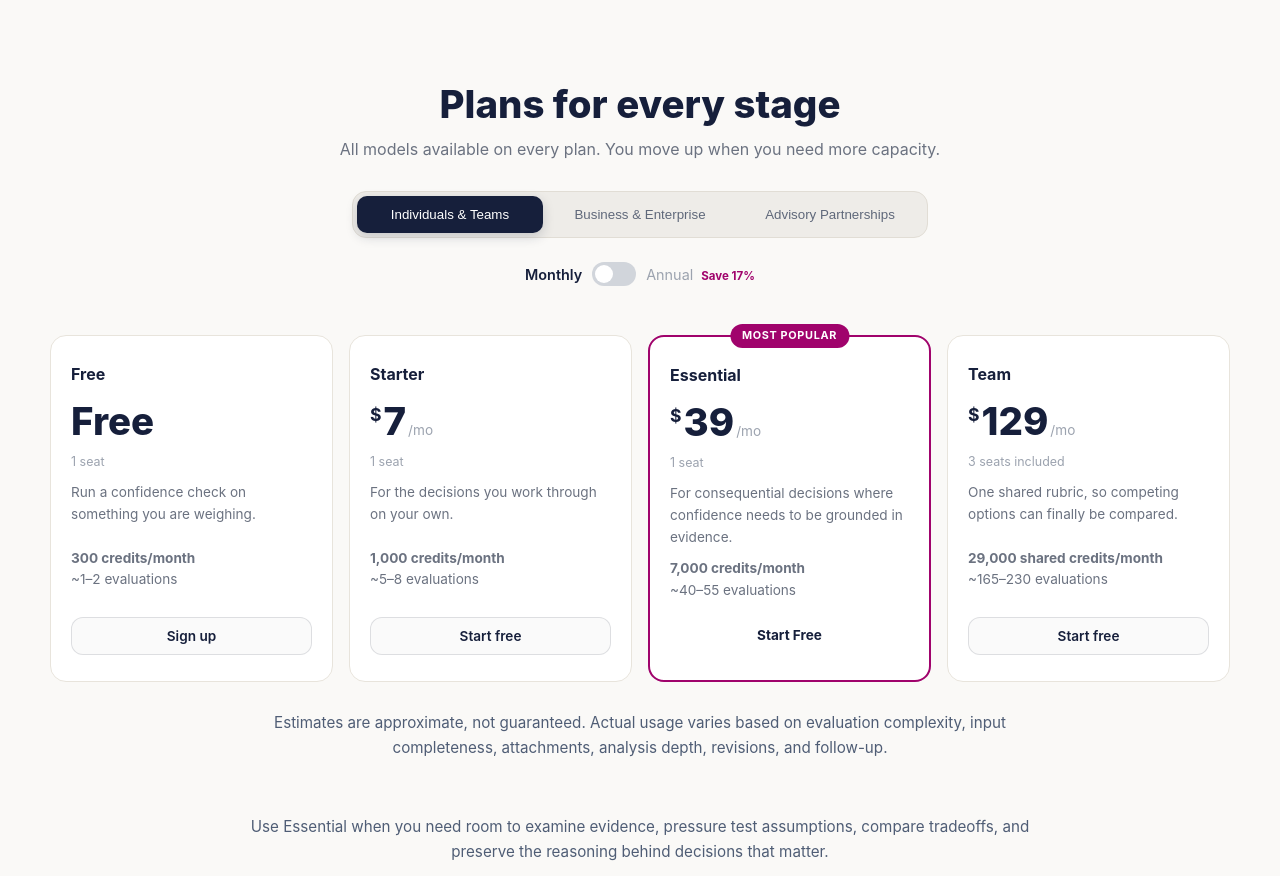
Test case: Advisory Partnerships tab › shows both advisory prices rather than hiding them behind a sales form
The width and height of the screenshot is (1280, 876).
Click the tab "Advisory Partnerships": (830, 214) [737,196,923,233]
(page scrolled)
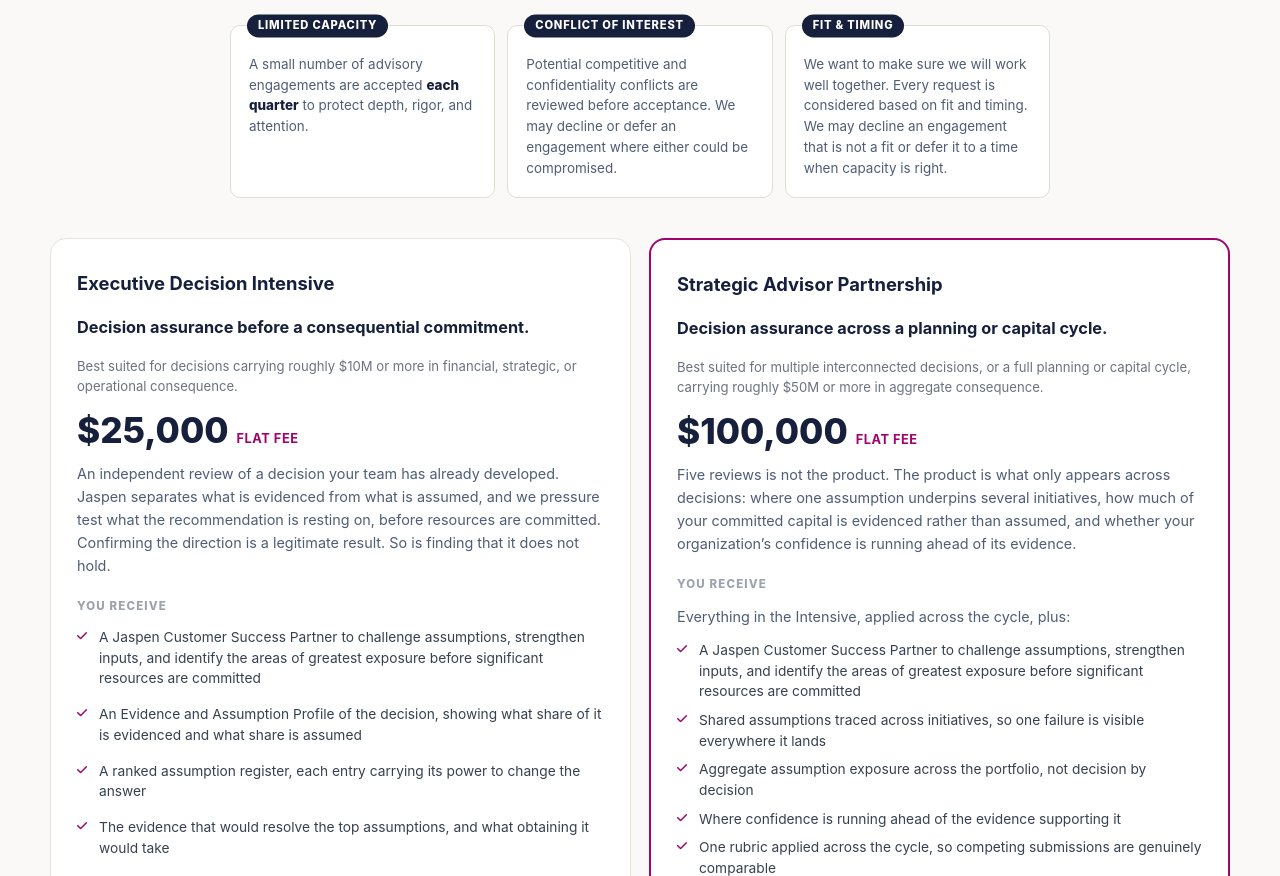
expect the text "$25,000" is shown: met, box [77,411,229,450]
expect the text "$100,000" is shown: met, box [677,412,848,450]
expect the text "Flat fee" is shown 2 times: met, box [237,429,298,449]; [856,430,918,450]
